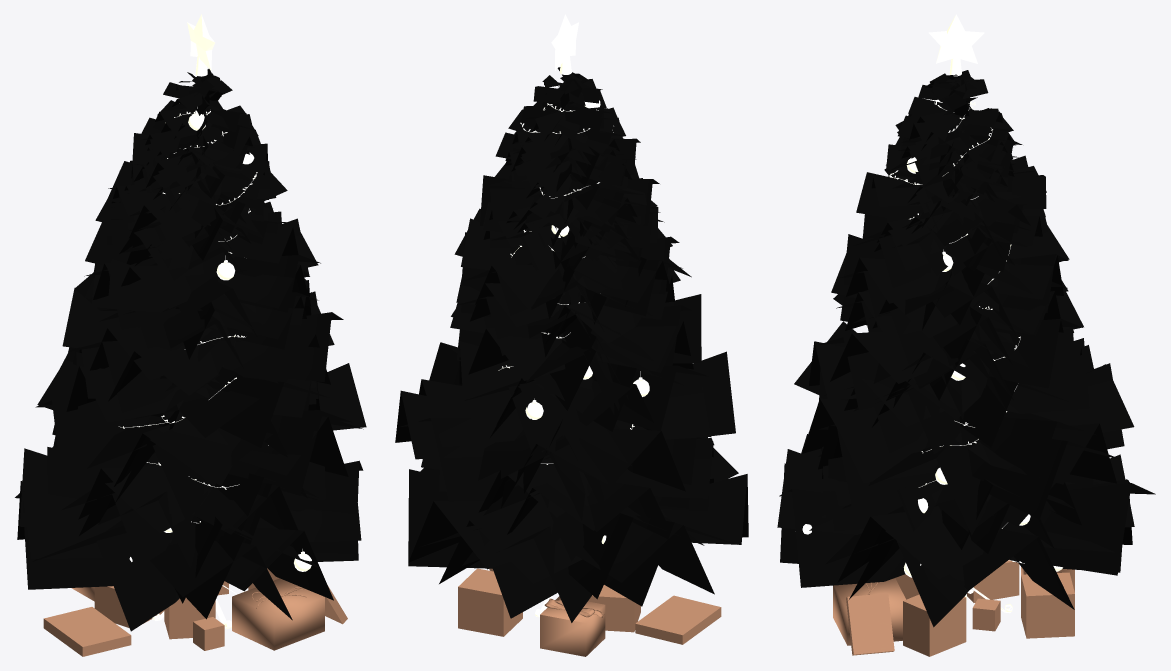
The model's file is festival-tree.glb.
3 views of the same model, side by side, from view 1: azimuth 30°, elevation 25°; view 2: azimuth 150°, elevation 25°; view 3: azimuth 270°, elevation 25° (orthographic). The views are drawn at different scales.
Visible parts, largest first — view 1: Festival_tree; view 2: Festival_tree; view 3: Festival_tree.
Boxes of the visible parts, <box> form: Festival_tree: <box>15,14,366,656</box>; Festival_tree: <box>395,14,748,656</box>; Festival_tree: <box>777,14,1155,656</box>.
Size of the model in its own units: 10.38 by 18 by 10.34.
Materials: 4 (3 with a texture image).
